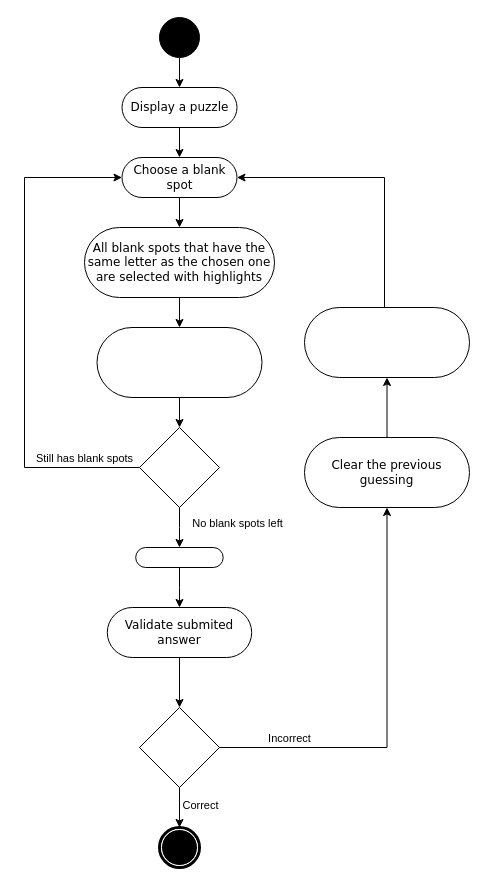
Some shapes in this 487 by 885 pixel diagram are drawn without their labels. The centre of each missing label's shape, as x and y in pixels:
"Guess a letter to fill in these blanks" goes at [179,362].
"Reset attempts and the expectation of scores" goes at [387,342].
"Submit" goes at [179,557].
